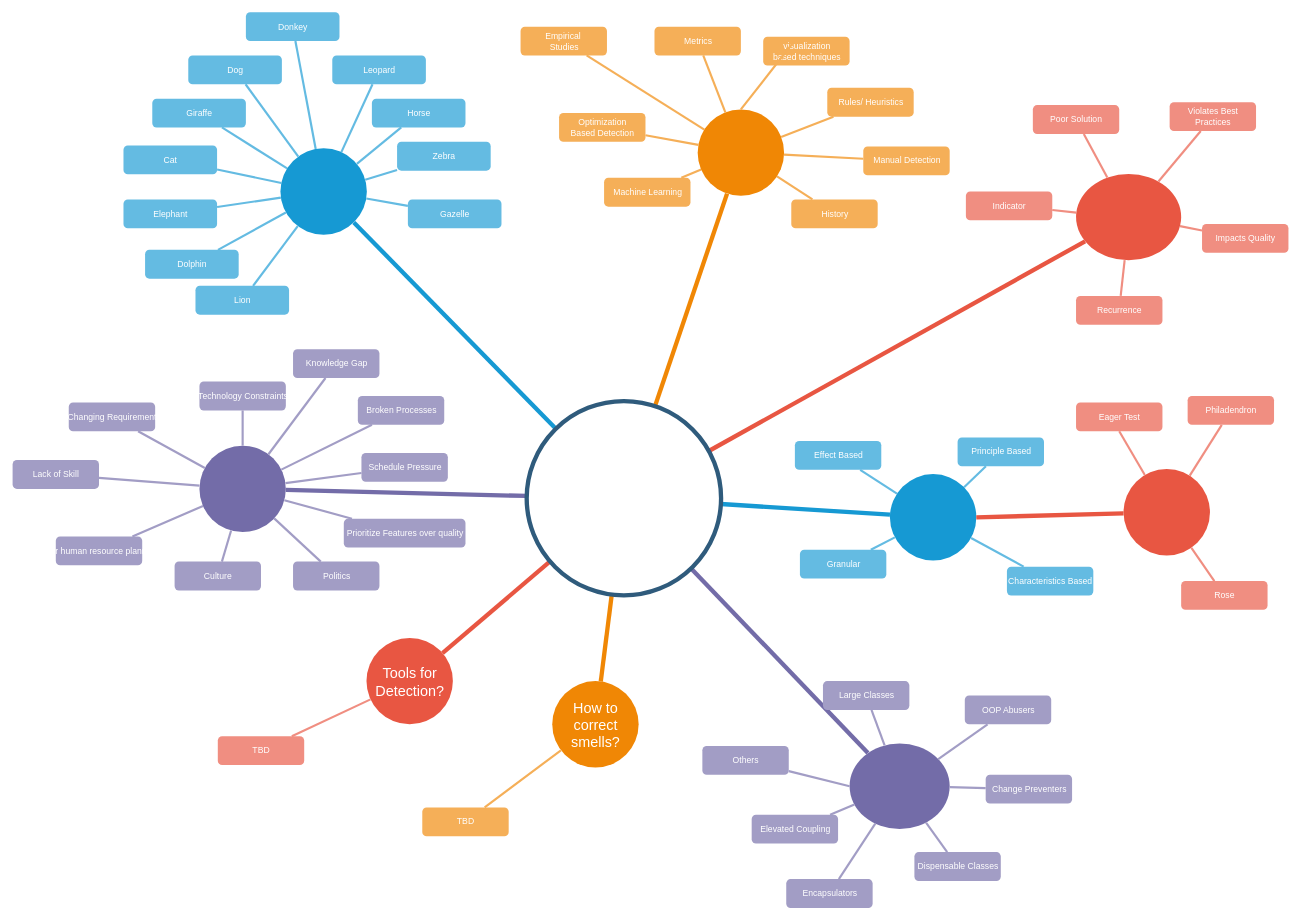
Some shapes in this 1300 by 920 pixel diagram are drawn without their labels. The box of each missing label's shape, as (x1, y1, x2, y2) in pixels:
Categorization: (849, 743, 949, 829)
Causes: (199, 445, 285, 532)
Characteristics: (1076, 174, 1181, 260)
Code Smells / Anti-Patterns: (524, 399, 723, 597)
Detection Methods: (697, 109, 784, 195)
Effects: (280, 148, 366, 234)
Test Smells: (1123, 469, 1210, 555)
Types: (890, 474, 976, 560)
